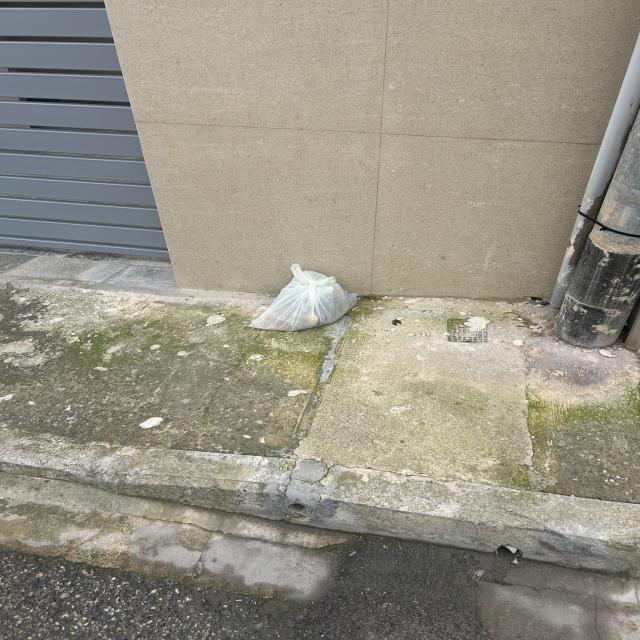white_bag: (243, 259, 362, 334)
